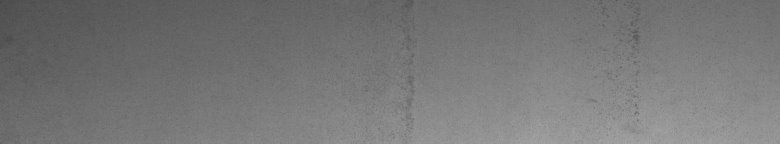ib: (590, 28, 641, 120)
